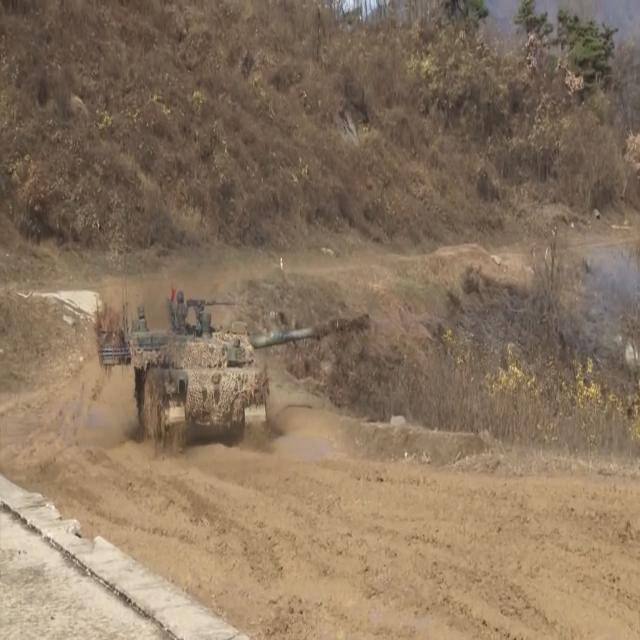korea tank: (95, 289, 371, 457)
